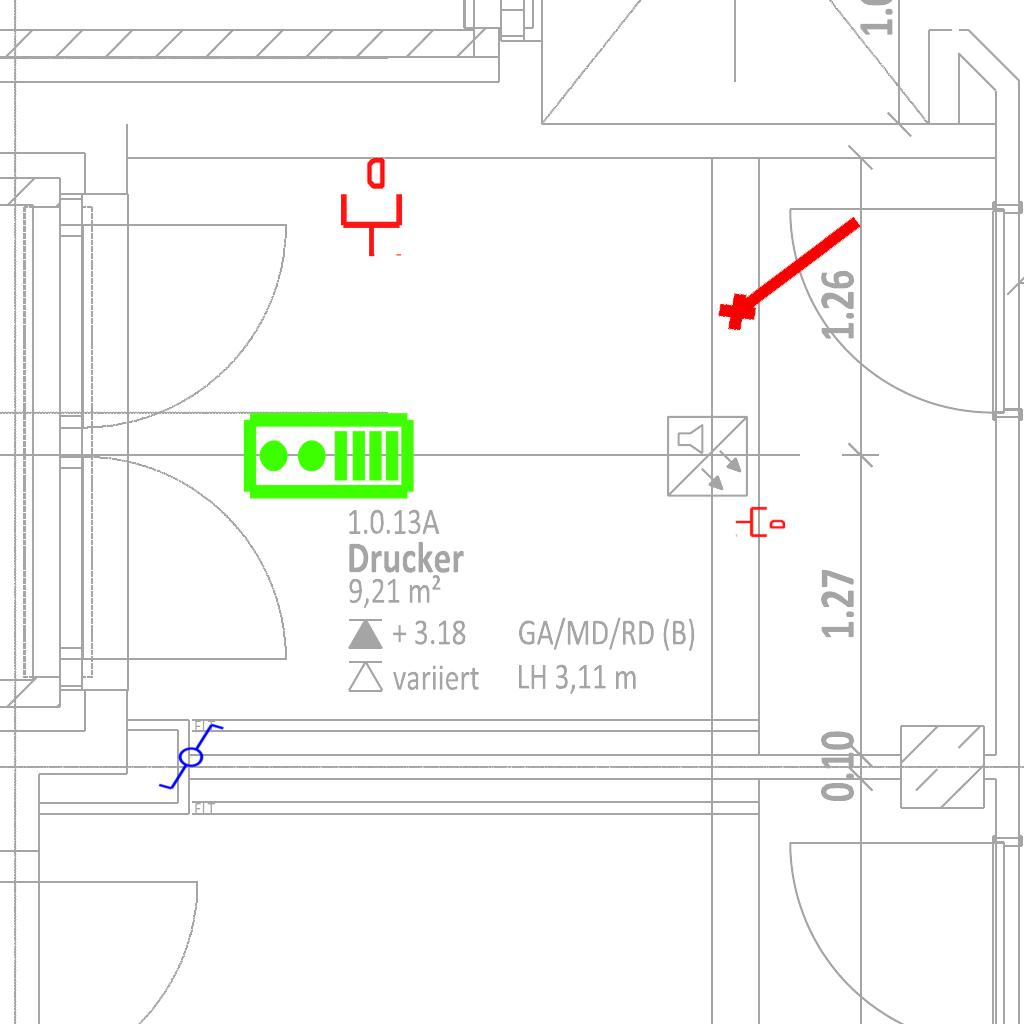ASR_Ansaugoeffnung: (705, 197, 875, 341)
Datenanschluss_einfach: (337, 158, 406, 258), (735, 505, 785, 539)
Gegensprechanlage_mit_Video: (240, 410, 416, 505)
Wechselschalter: (148, 720, 226, 792)
